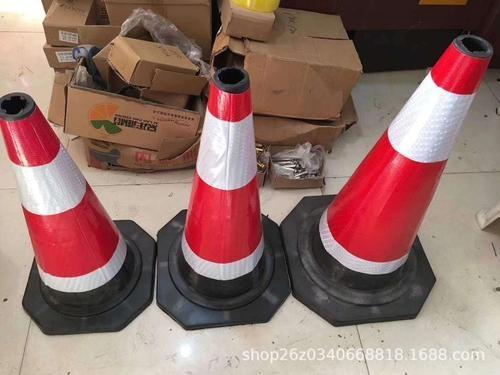cone_barrel: (315, 28, 498, 290), (1, 86, 136, 318), (173, 47, 274, 302)
